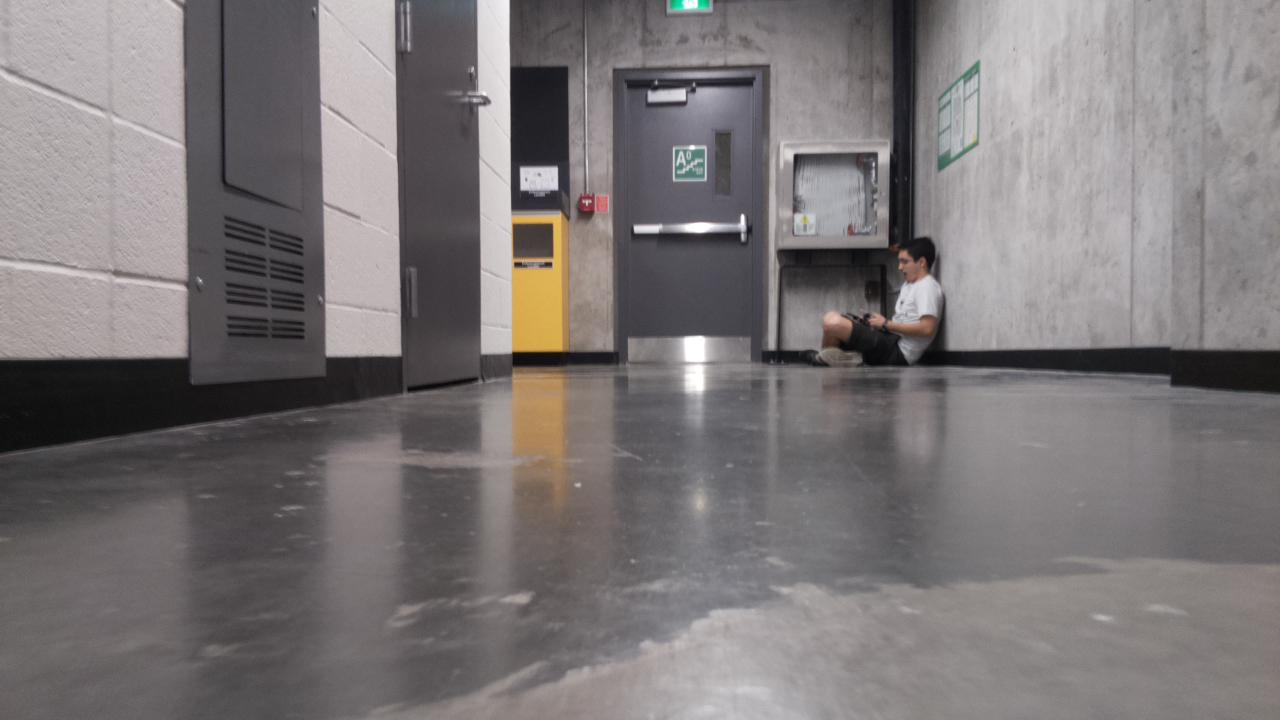door: (627, 84, 751, 362)
person: (813, 235, 944, 368)
sign: (938, 61, 979, 171), (519, 166, 557, 199), (673, 145, 706, 181), (666, 0, 712, 13), (794, 214, 815, 234)
